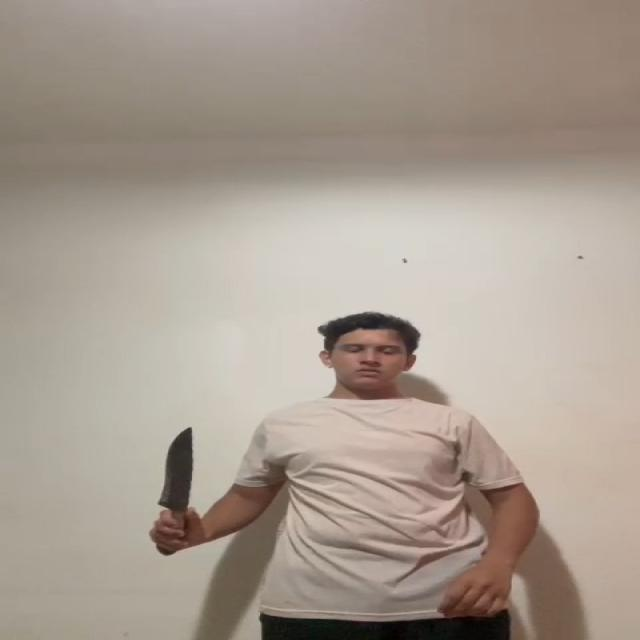knife: (160, 428, 196, 504)
